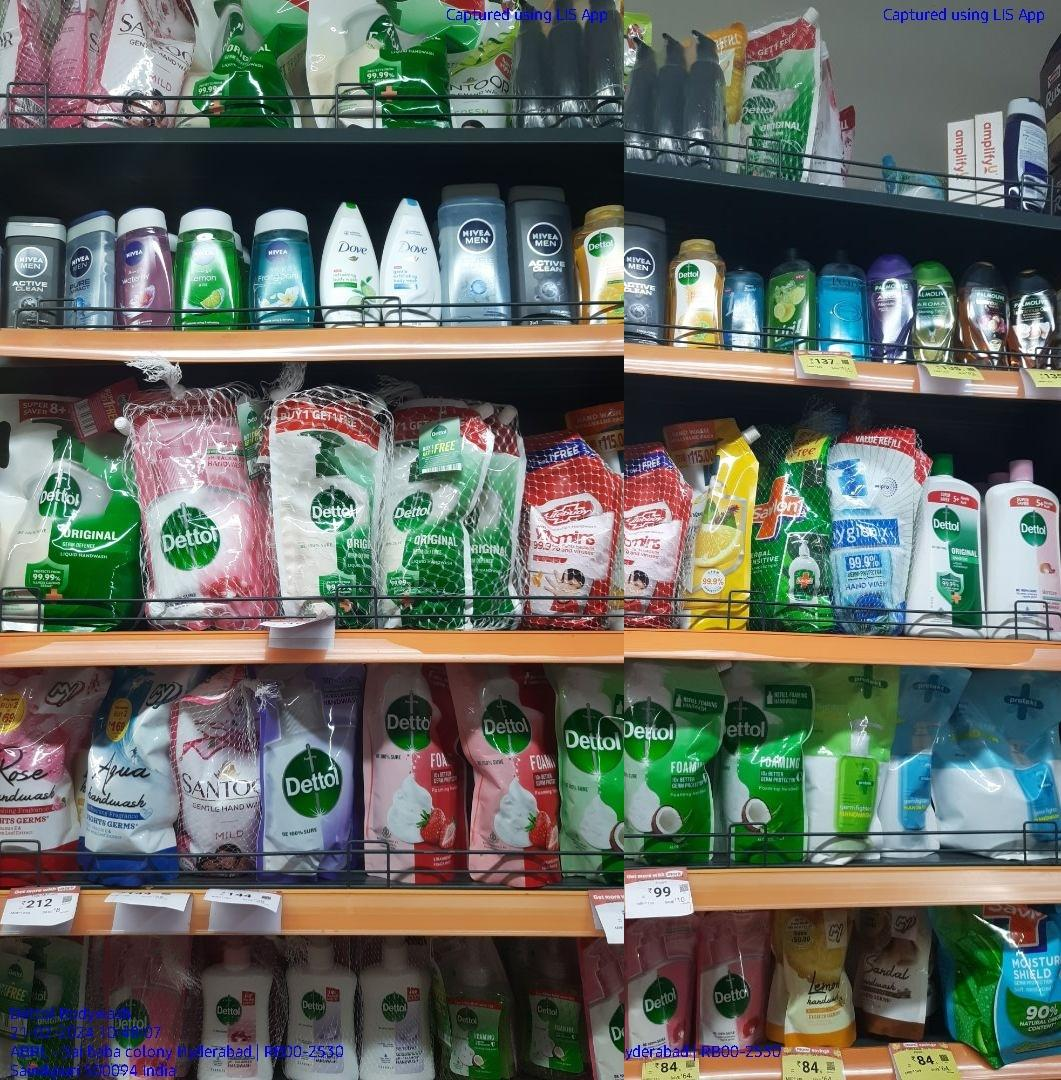Dettol_Bodywash_Refresh: (668, 237, 725, 348)
Dove_Gentle_Exfoliating_Body_Wash_250ML: (378, 196, 442, 326)
Dove_Refreshing_Body_Wash_250ML: (318, 200, 379, 327)
Liril_Lime_and_Tea_Tree_Oil_Body_Wash_250ML: (768, 245, 817, 351)
Nivea_Shower_Gel_Frangipani_and_Oil_250ML: (247, 206, 317, 328)
Nivea_Shower_Gel_Lemon_and_Oil_250ML: (177, 205, 242, 331)
Nivea_Shower_Gel_Waterlily_and_Oil_250ML: (116, 205, 175, 329)
Pears_Pure_Glycerin_and_Mint_Extracts_Body_Wash_250ML: (817, 243, 866, 353)
